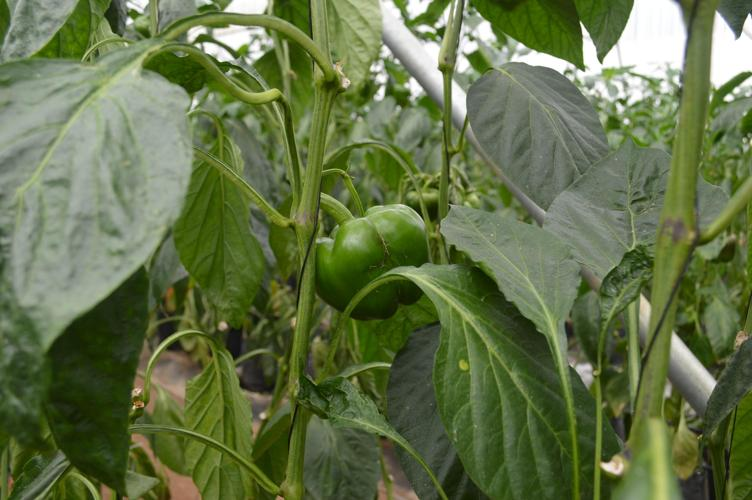BellPepper: (293, 194, 446, 335)
